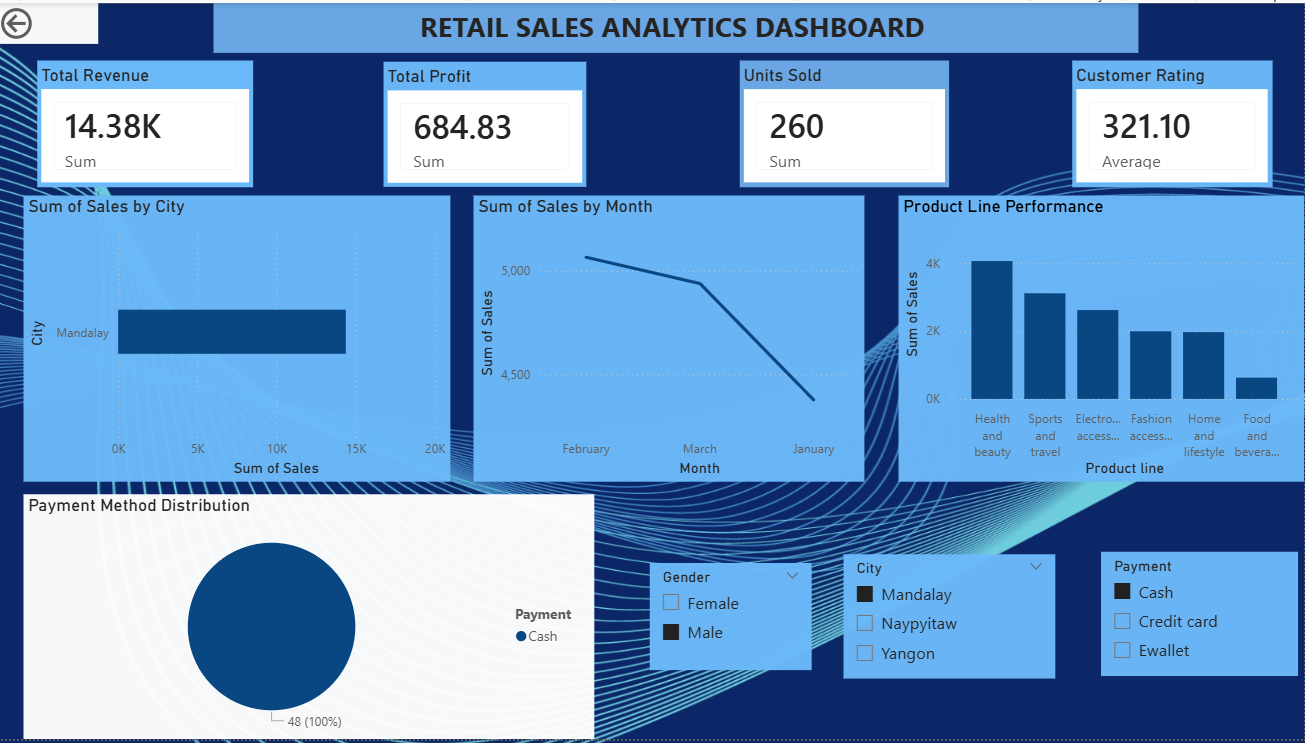

What the dashboard file says about the page in this screenshot:
{"tool":"powerbi","page":{"name":"Page 1","canvas":[1280,720],"ordinal":0},"visuals":[{"type":"cardVisual","title":"Total Revenue","fields":{"Data":["Sum(clean_sales.Sales)"]},"box":[40,56.2,211.2,123.8],"z":0},{"type":"actionButton","box":[0,0,100,40],"z":1000},{"type":"clusteredBarChart","fields":{"Category":["clean_sales.City"],"Y":["Sum(clean_sales.Sales)"]},"box":[27.5,188.8,417.5,280],"z":2000},{"type":"clusteredColumnChart","title":"Product Line Performance","fields":{"Category":["clean_sales.Product line"],"Y":["Sum(clean_sales.Sales)"]},"box":[882.5,188.8,397.5,280],"z":3000},{"type":"pieChart","title":"Payment Method Distribution","fields":{"Category":["clean_sales.Payment"],"Y":["CountNonNull(clean_sales.Payment)"]},"box":[27.5,480,558.8,240],"z":4000},{"type":"lineChart","fields":{"Category":["clean_sales.Month"],"Y":["Sum(clean_sales.Sales)"]},"box":[467.5,188.8,382.5,280],"z":5000},{"type":"slicer","fields":{"Values":["clean_sales.City"]},"box":[828.8,538.8,207.5,121.2],"z":6000},{"type":"slicer","fields":{"Values":["clean_sales.Gender"]},"box":[640,547.5,158.8,105],"z":7000},{"type":"slicer","fields":{"Values":["clean_sales.Payment"]},"box":[1081.2,536.2,192.5,121.2],"z":8000},{"type":"cardVisual","title":"Total Profit","fields":{"Data":["Sum(clean_sales.gross income)"]},"box":[378.8,57.5,198.8,122.5],"z":9000},{"type":"cardVisual","title":"Customer Rating","fields":{"Data":["Sum(clean_sales.Rating)"]},"box":[1052.5,56.2,196.2,123.8],"z":10000},{"type":"cardVisual","title":"Units Sold","fields":{"Data":["Sum(clean_sales.Quantity)"]},"box":[727.5,56.2,205,123.8],"z":11000},{"type":"textbox","box":[212.5,0,905,48.8],"z":12000}]}

Visuals, with their boxes in screenshot pixels (x1, y1, x2, y2):
"Total Revenue" cardVisual: (x1=31, y1=55, x2=252, y2=184)
actionButton: (x1=0, y1=0, x2=94, y2=38)
clusteredBarChart - clean_sales.City x Sum(clean_sales.Sales): (x1=18, y1=193, x2=454, y2=485)
"Product Line Performance" clusteredColumnChart: (x1=910, y1=193, x2=1304, y2=485)
"Payment Method Distribution" pieChart: (x1=18, y1=497, x2=601, y2=742)
lineChart - clean_sales.Month x Sum(clean_sales.Sales): (x1=477, y1=193, x2=876, y2=485)
slicer - clean_sales.City: (x1=854, y1=558, x2=1070, y2=685)
slicer - clean_sales.Gender: (x1=657, y1=567, x2=822, y2=677)
slicer - clean_sales.Payment: (x1=1117, y1=556, x2=1304, y2=682)
"Total Profit" cardVisual: (x1=385, y1=57, x2=592, y2=184)
"Customer Rating" cardVisual: (x1=1087, y1=55, x2=1291, y2=184)
"Units Sold" cardVisual: (x1=748, y1=55, x2=962, y2=184)
textbox: (x1=211, y1=0, x2=1155, y2=47)
